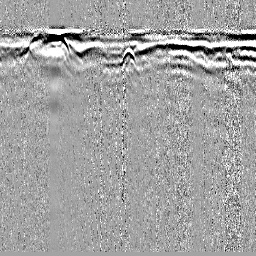cavity: (120, 45, 136, 65)
